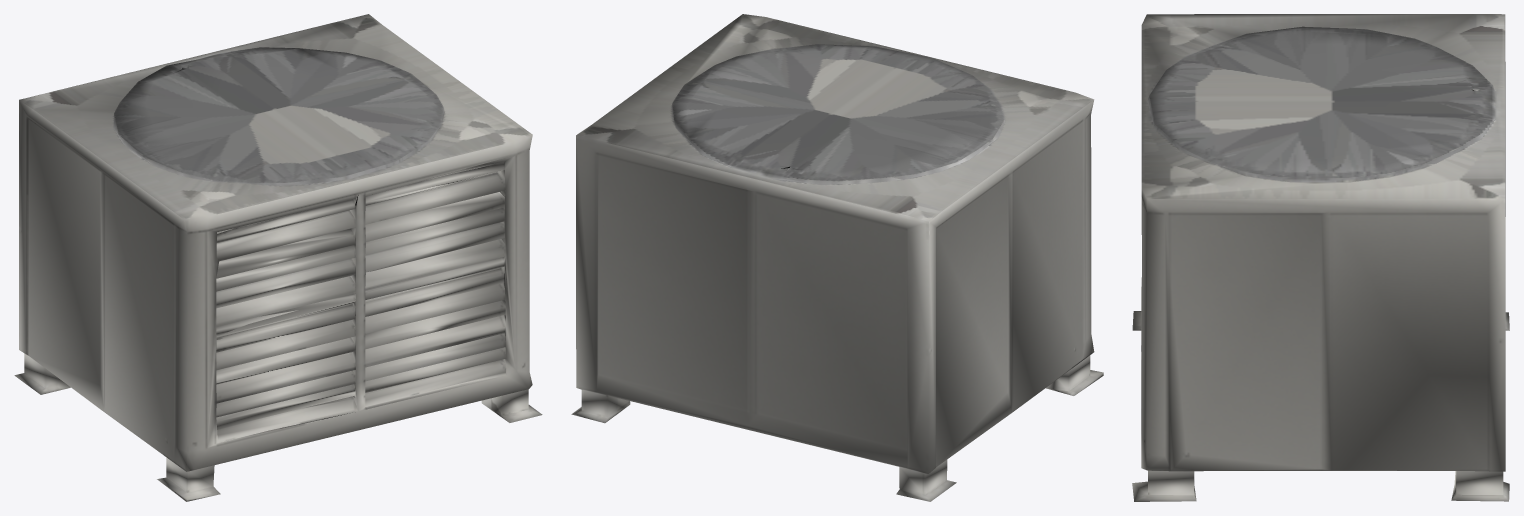
File: roof_ac.glb
The picture shows the model from 3 angles, left to right: view 1: azimuth 30°, elevation 25°; view 2: azimuth 150°, elevation 25°; view 3: azimuth 270°, elevation 25°; orthographic projection. The views are drawn at different scales.
Parts seen in each view (by area): view 1: low; view 2: low; view 3: low.
Part boxes in pixels (box(x1,y1,x2,y2)): low: box(14, 14, 542, 501); low: box(571, 14, 1103, 501); low: box(1132, 14, 1509, 501).
Size of the model in its own units: 1.87 by 1.42 by 1.58.
1 material, 1 textured.
